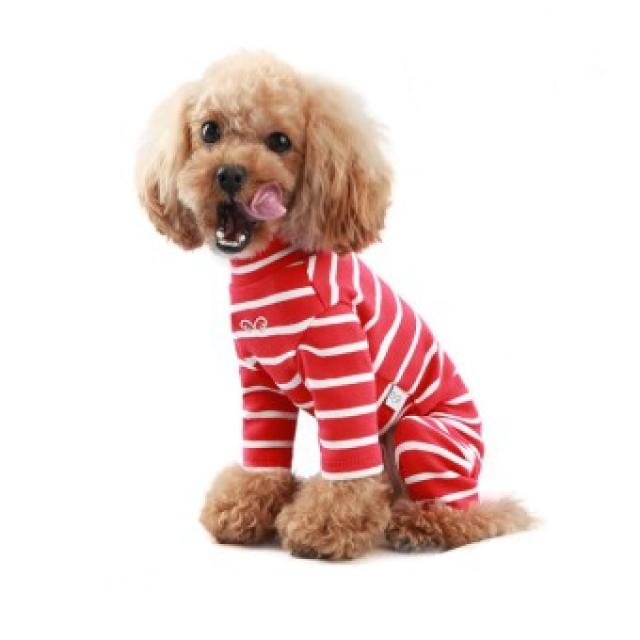cloth: (231, 240, 481, 506)
